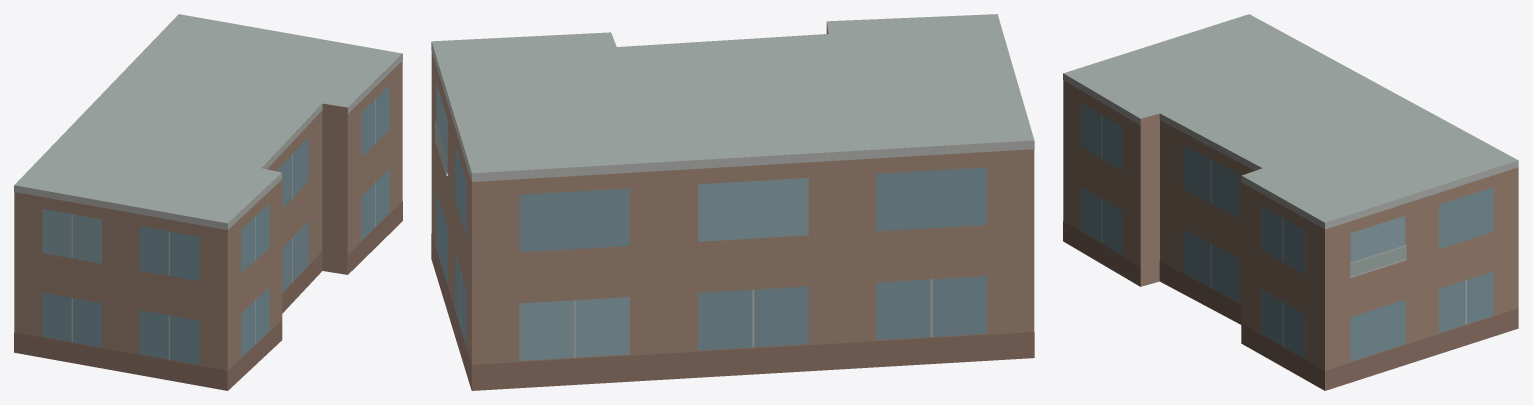
Rendered from survey-upis-32598496.glb.
3 renders of one model, left to right at view 1: azimuth 30°, elevation 25°; view 2: azimuth 150°, elevation 25°; view 3: azimuth 270°, elevation 25°, orthographic. The views are drawn at different scales.
Visible parts, largest first — view 1: survey-upis-32598496.tmp; view 2: survey-upis-32598496.tmp; view 3: survey-upis-32598496.tmp.
Part boxes in pixels (bbox=[...]): survey-upis-32598496.tmp: bbox=[14, 14, 402, 390]; survey-upis-32598496.tmp: bbox=[431, 14, 1034, 390]; survey-upis-32598496.tmp: bbox=[1063, 14, 1518, 390].
Size of the model in its own units: 16.27 by 6.1 by 14.99.
